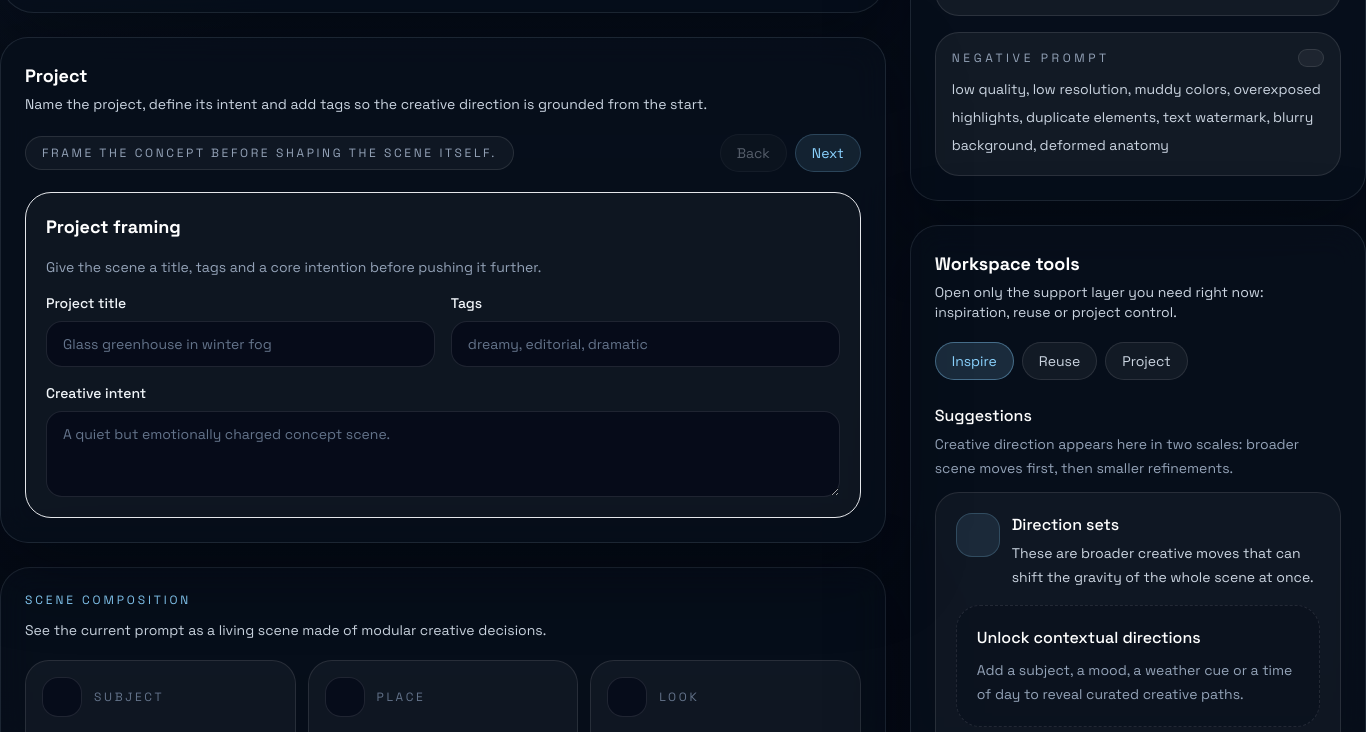
Test: StudioApp › switches tools to reuse and filters quick resources
(page scrolled)
Click the button with test id "workspace-tool-reuse" at (1060, 361), box [1022, 342, 1097, 380]
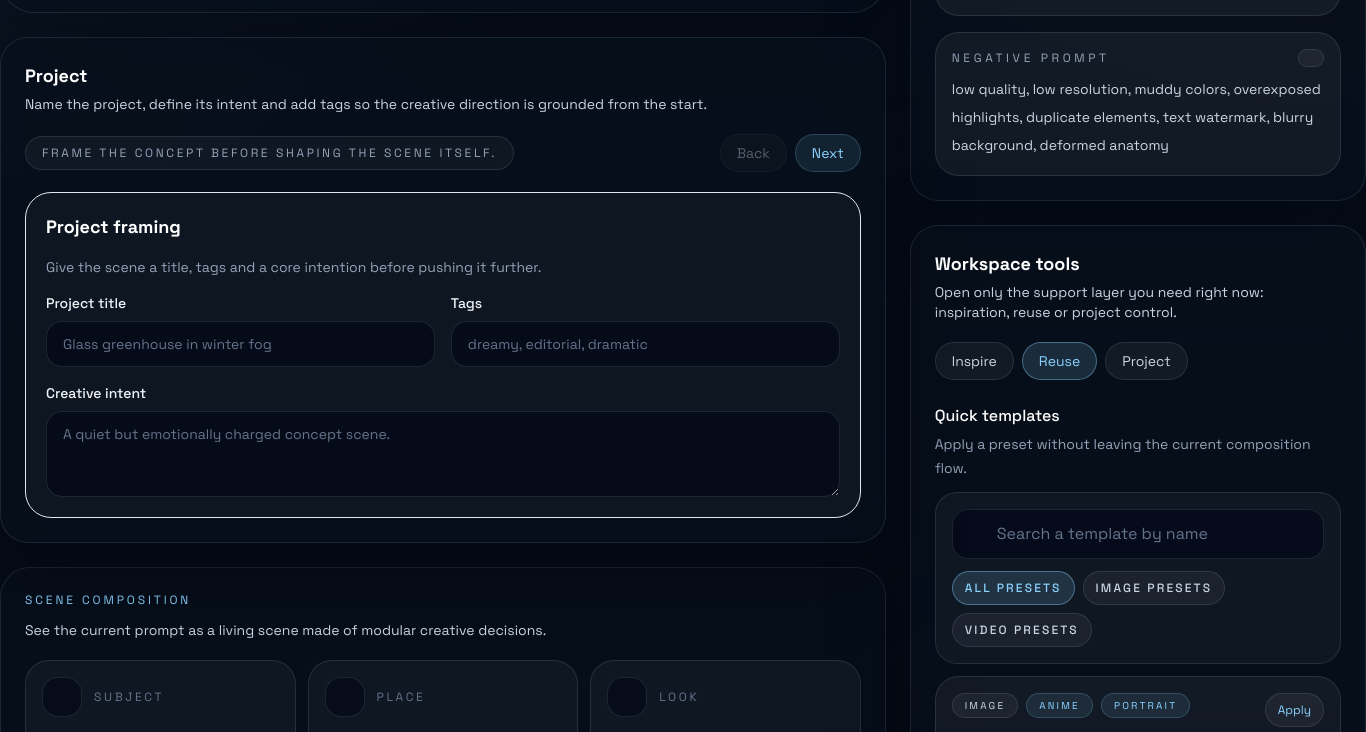
Now the text "Quick templates" is shown, box [935, 405, 1060, 426]
Type "anime" into the field with placeholder "Search a template by name" at (1138, 534), box [952, 509, 1324, 559]
(page scrolled)
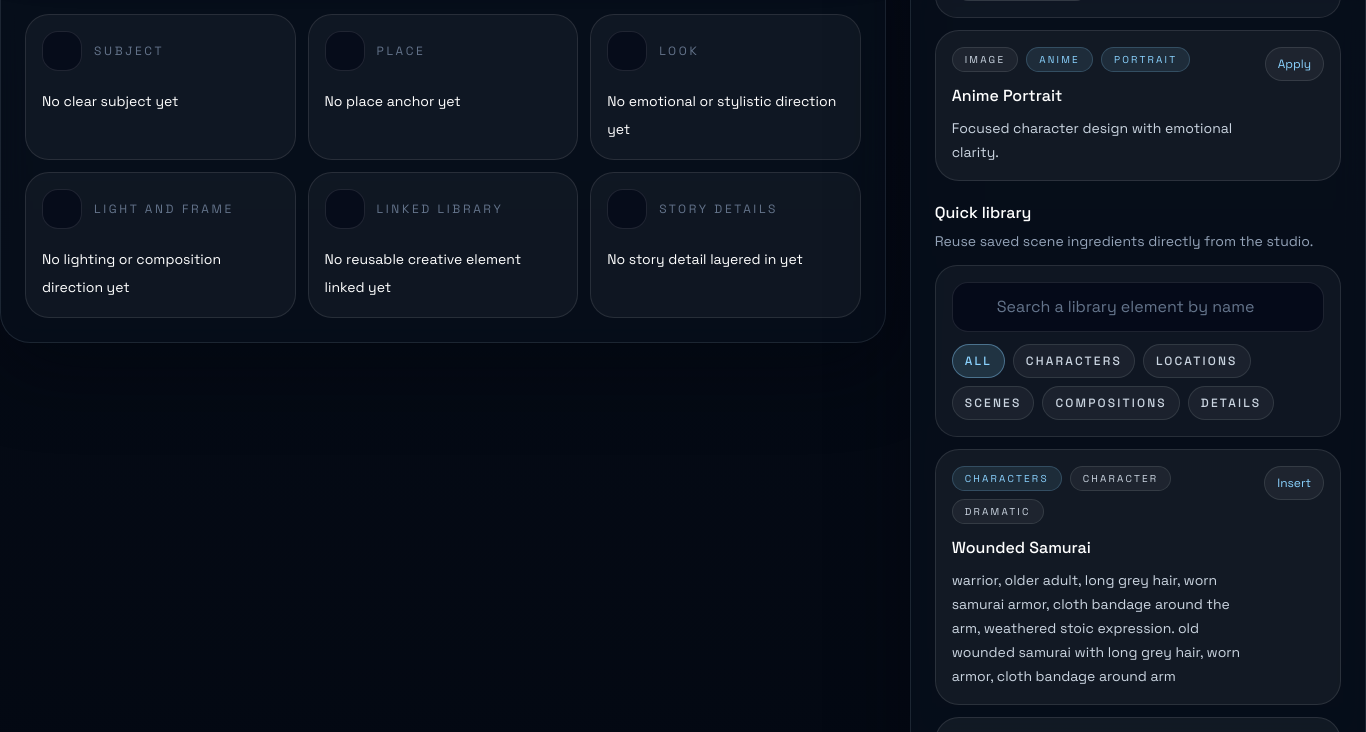
Now the element with test id "quick-template-card" shows "anime portrait", box [952, 85, 1062, 106]
Now the button "Locations" is shown
Now the number of elements with test id "quick-template-card" is 1, box [935, 30, 1341, 181]
Click the button "Locations" at (1197, 361), box [1143, 344, 1251, 378]
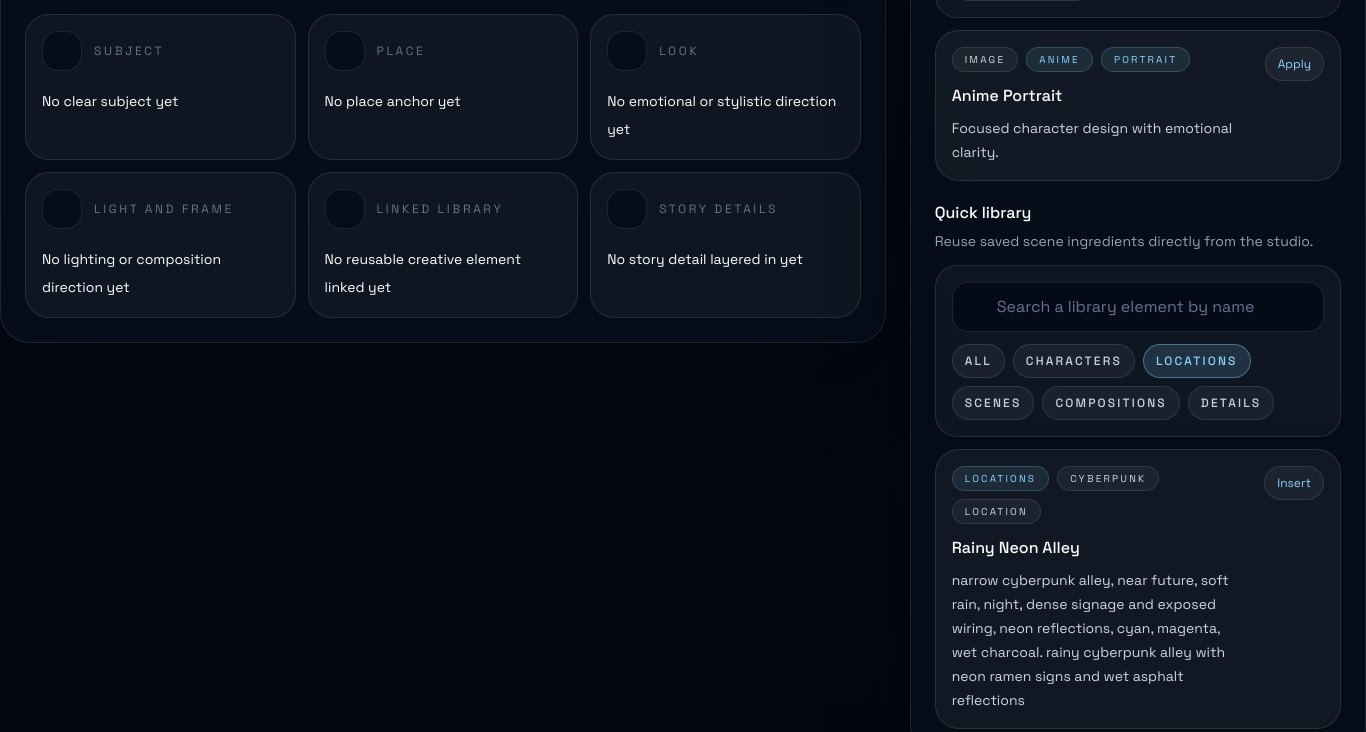
Now the element with test id "quick-library-card" shows "Rainy Neon Alley", box [952, 537, 1080, 558]
Now the number of elements with test id "quick-library-card" is 1, box [935, 449, 1341, 729]
